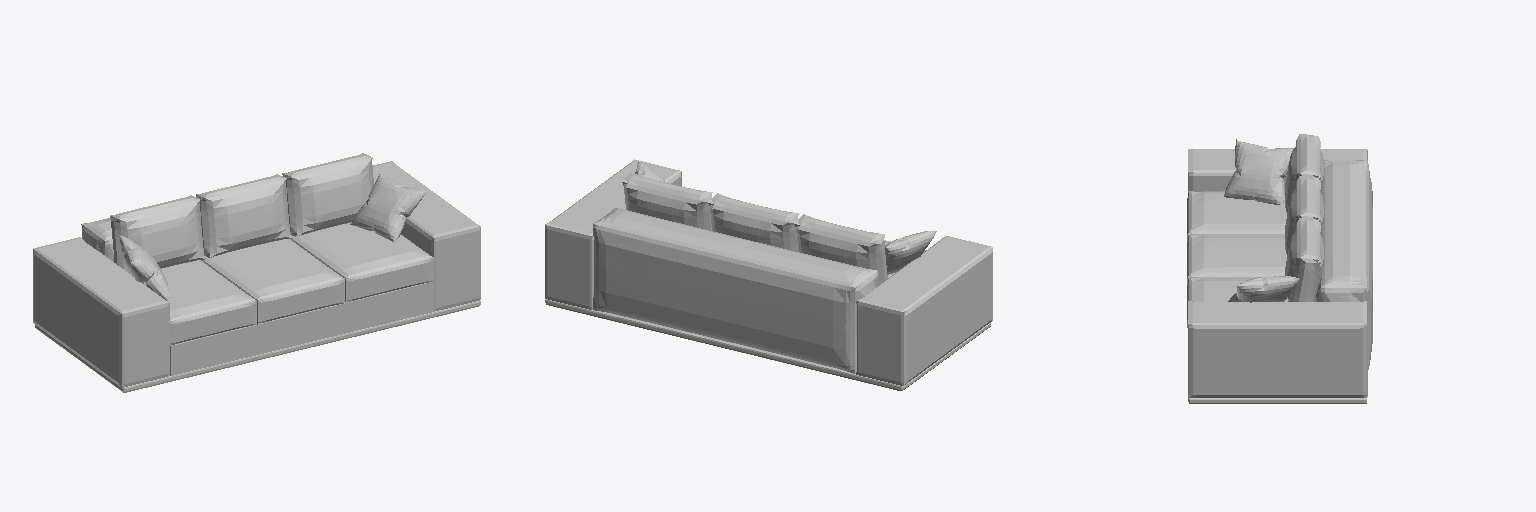
Rendered from sofa_001.obj.
3 views of the same model, side by side, from view 1: azimuth 30°, elevation 25°; view 2: azimuth 150°, elevation 25°; view 3: azimuth 270°, elevation 25° (orthographic).
Parts seen in each view (by area): view 1: default; view 2: default; view 3: default.
Boxes of the visible parts, box(x1,y1,x2,y2) form: default: box(33, 153, 480, 392); default: box(545, 159, 992, 390); default: box(1187, 134, 1372, 403).
Bounding box in the file's own units: 3.03 × 0.9761 × 1.35.